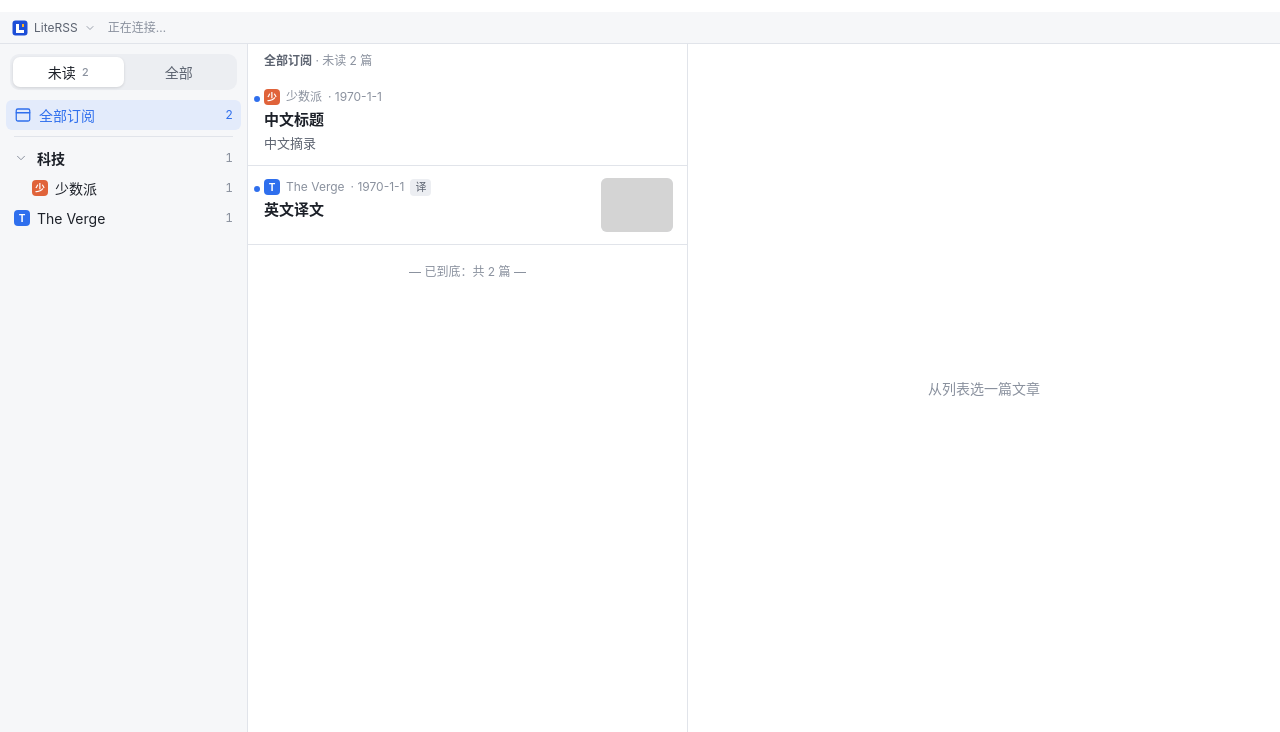
Test: 列表 › 切到「全部」视图
Expected: the element showing "全部订阅 · 未读 2 篇" is shown, [264,53,372,68]
Click the button "全部" at (179, 72), box [124,57,234,87]
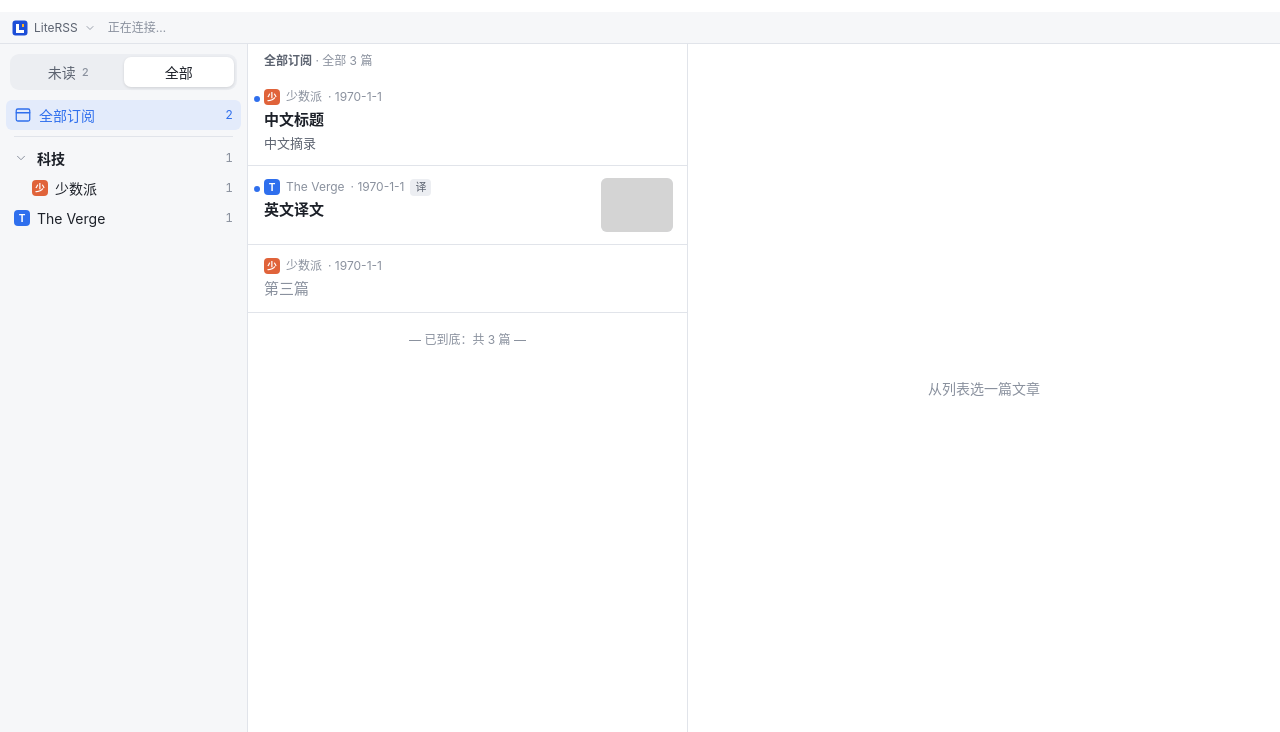
Result: the element showing "全部订阅 · 全部 3 篇" is shown at [264,53,372,68]
